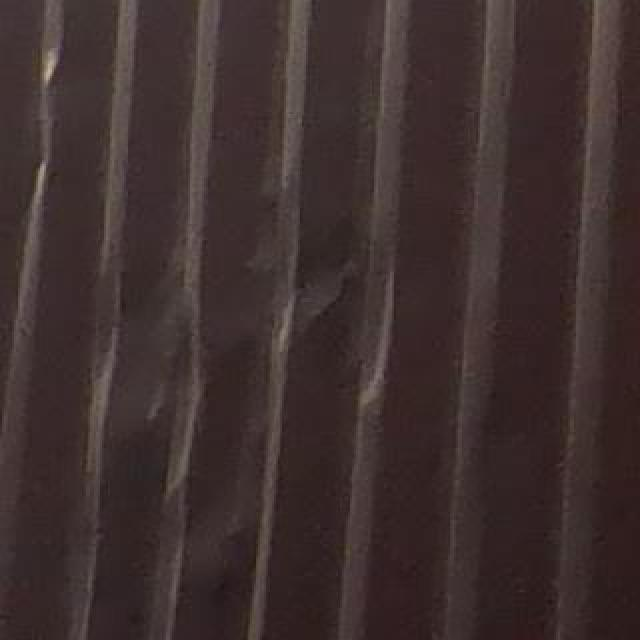dent: (83, 193, 403, 541)
